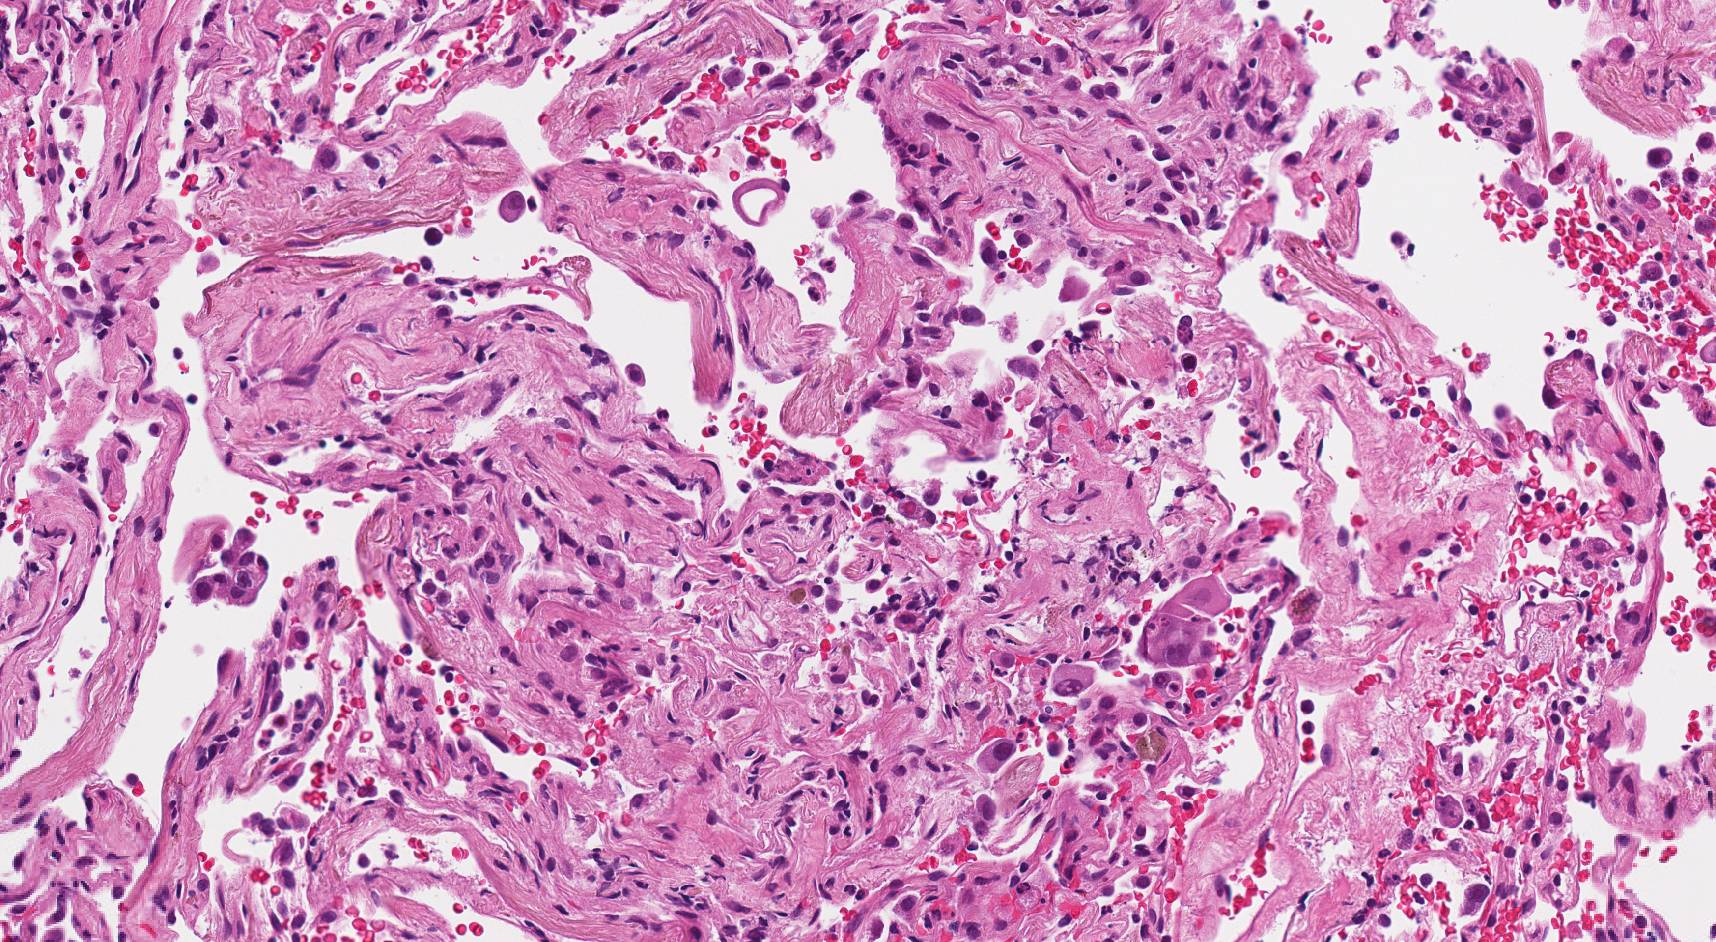stas: (1135, 571, 1235, 667), (185, 521, 269, 607)
